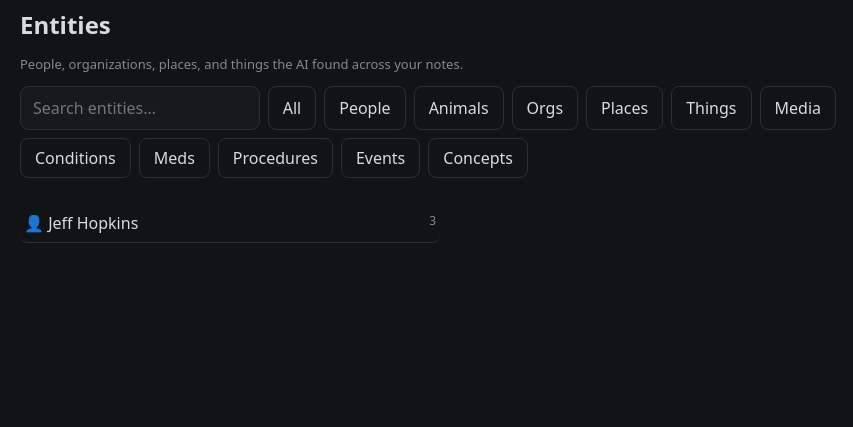
EntitiesPage › loads an entity's detail when a row is clicked
Click the button "👤 Jeff Hopkins 3": (93, 223) [20, 204, 440, 243]
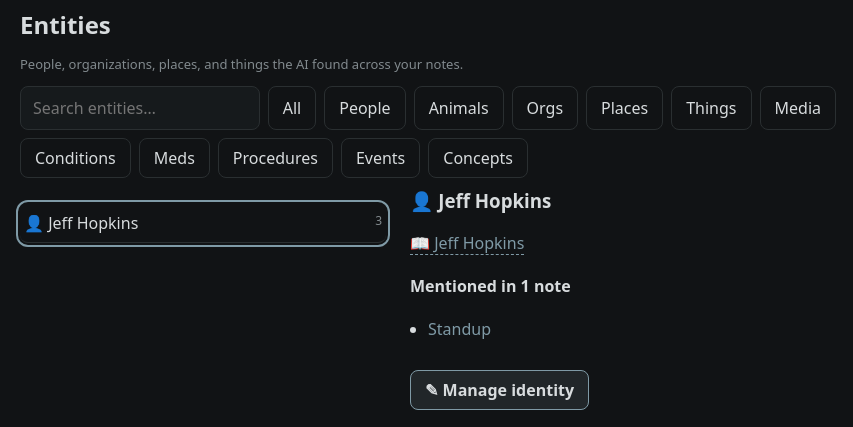
Expected: the heading "👤 Jeff Hopkins" is shown, [410, 188, 551, 213]
Expected: the heading "Mentioned in 1 note" is shown, [410, 275, 571, 297]
Expected: the link "Standup" is shown, [428, 318, 491, 340]
